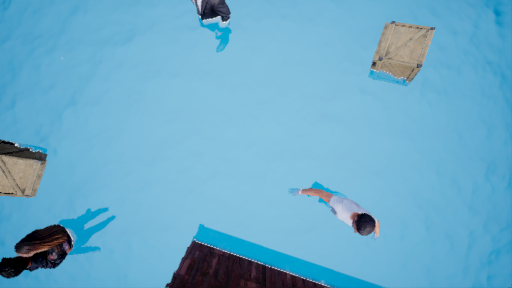person: (1, 214, 110, 277), (302, 177, 385, 248)
